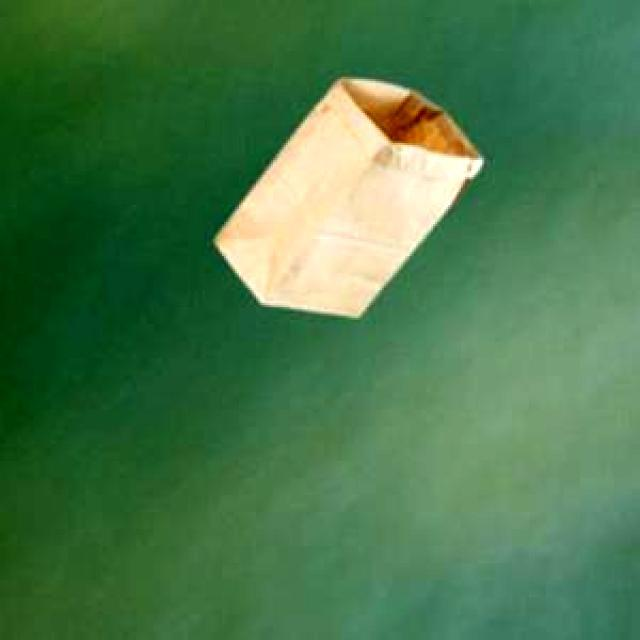Paper_Bag: (212, 75, 479, 312)
